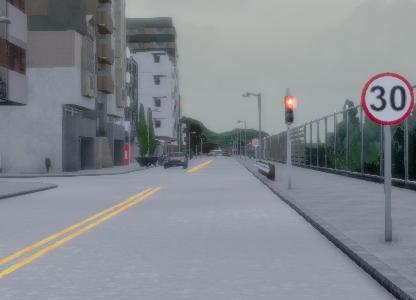Speed_30: (361, 71, 416, 126)
